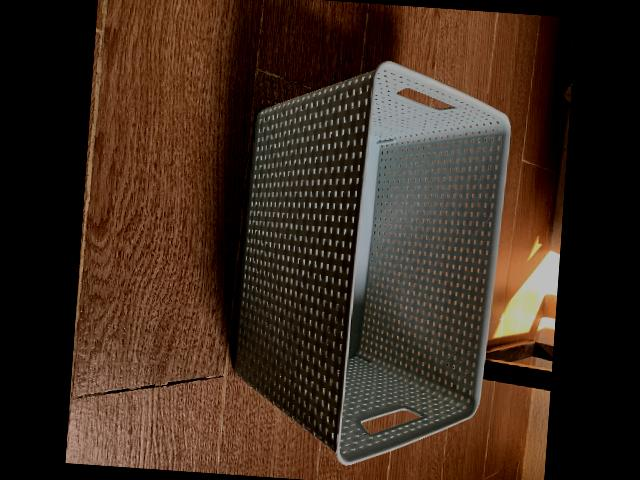cart: (230, 59, 509, 466)
